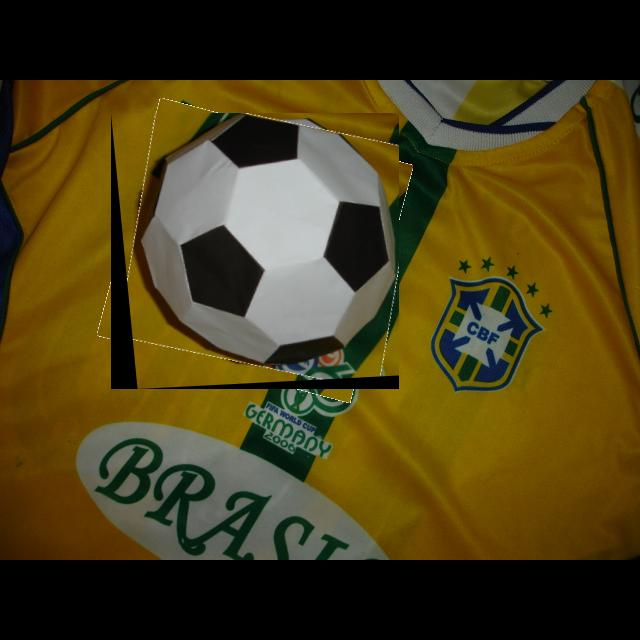Football: (111, 113, 399, 389)
